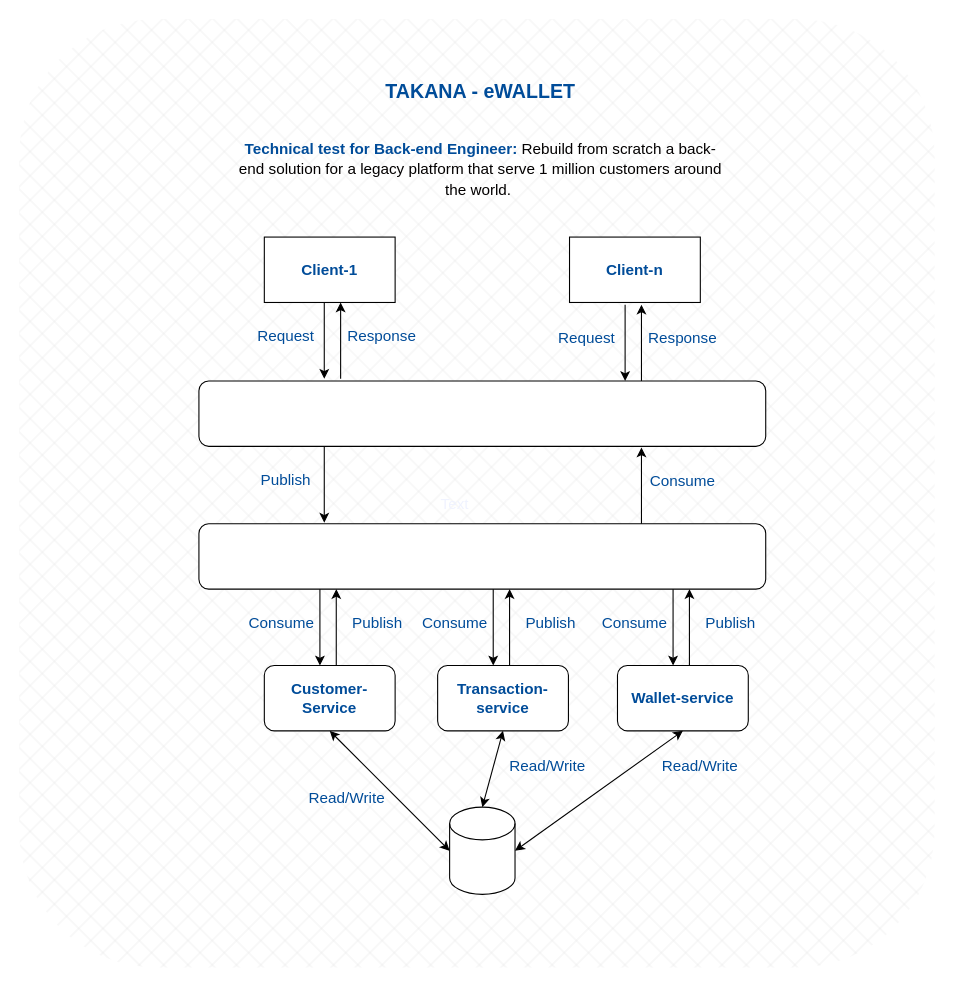
This 953x985 diagram has some shape labels left out. Each missing label, with the box of its shape:
API GATEWAY: (198, 380, 766, 446)
DB: (449, 806, 515, 894)
EVENT BUS PUB/SUB: (198, 523, 766, 589)
